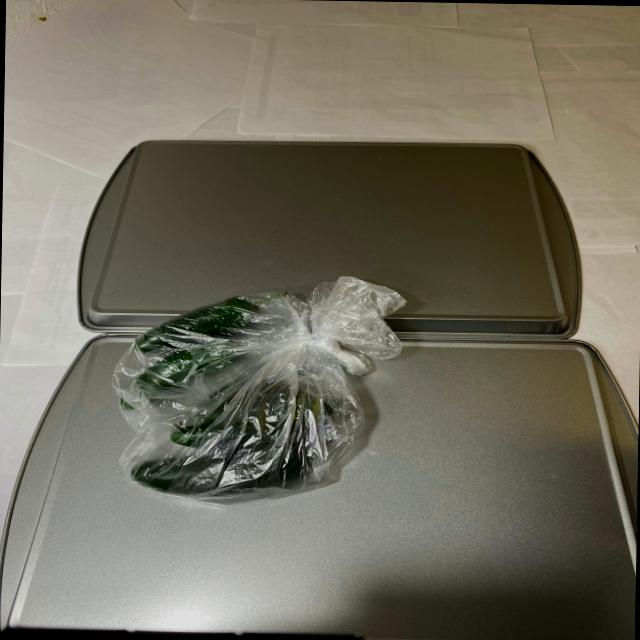chilli: (118, 278, 377, 508)
